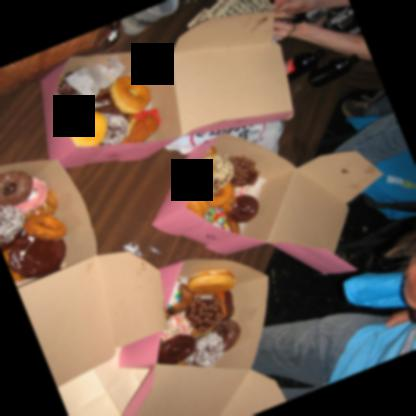handbag: (0, 19, 129, 97)
